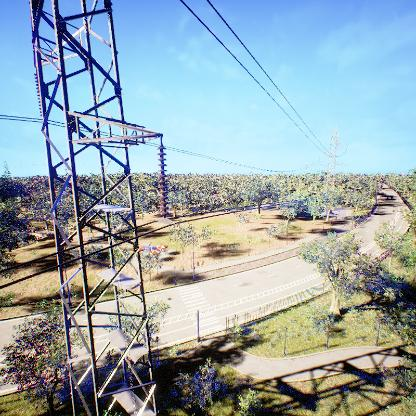insulator: (155, 143, 170, 218)
